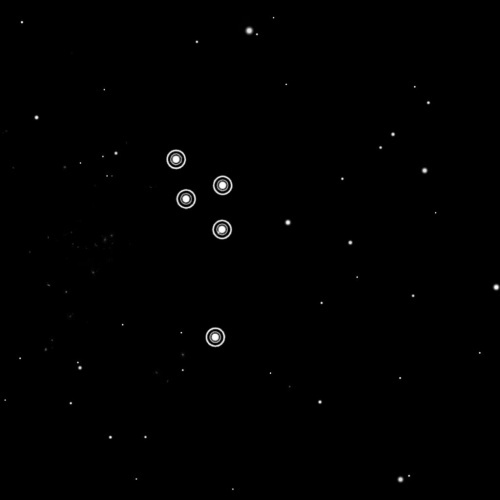delphinus: (158, 138, 235, 353)
